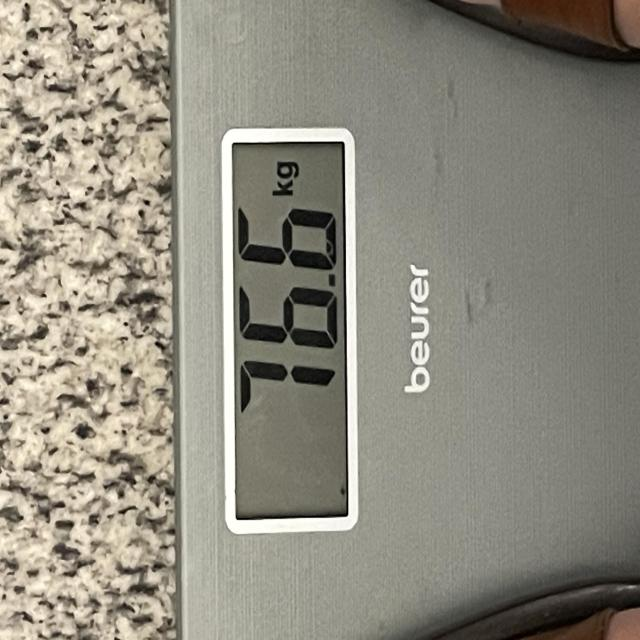ws: (220, 128, 360, 540)
